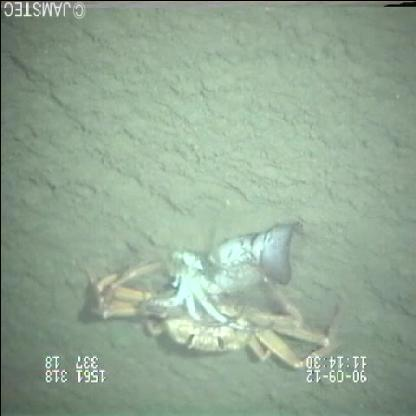Bio: (79, 216, 353, 371)
